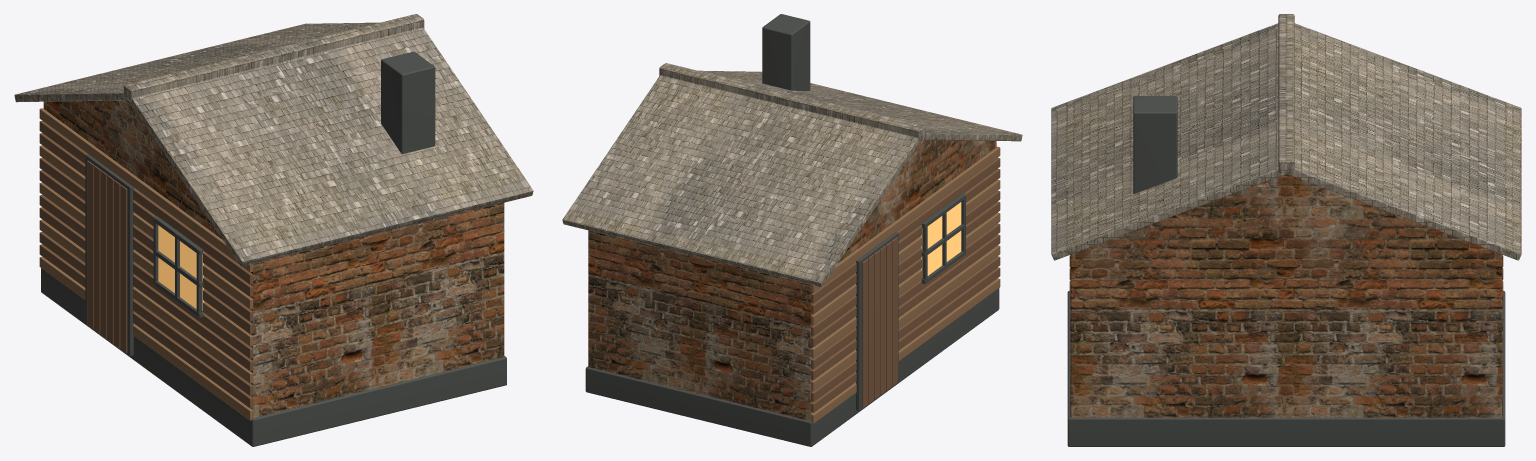
File: workshop-exterior.glb
3 views of the same model, side by side, from view 1: azimuth 30°, elevation 25°; view 2: azimuth 150°, elevation 25°; view 3: azimuth 270°, elevation 25° (orthographic). The views are drawn at different scales.
Parts seen in each view (by area): view 1: workshop-exterior; view 2: workshop-exterior; view 3: workshop-exterior.
Part boxes in pixels (bbox=[...]): workshop-exterior: bbox=[14, 14, 533, 446]; workshop-exterior: bbox=[562, 14, 1022, 446]; workshop-exterior: bbox=[1051, 14, 1521, 446].
Size of the model in its own units: 3.71 by 3.68 by 4.98.
Materials: 6 (2 with a texture image).
